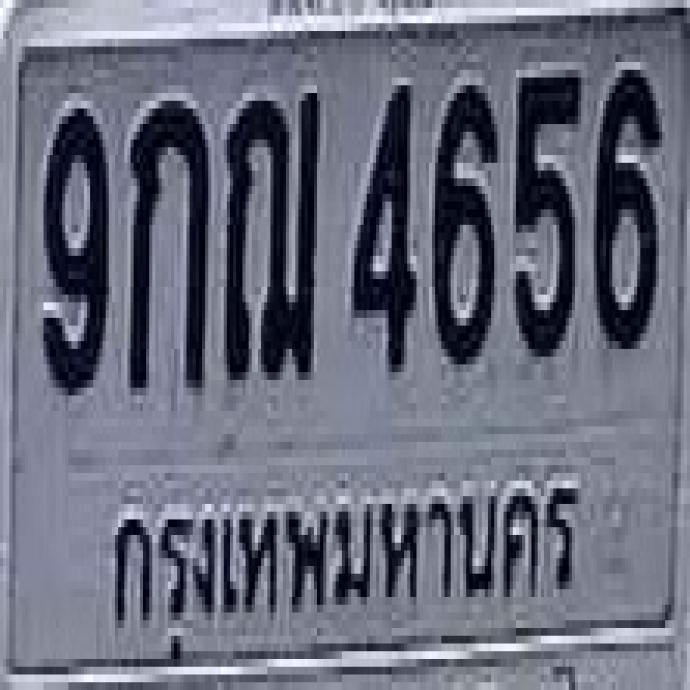4: (350, 78, 412, 366)
5: (512, 66, 578, 351)
6: (593, 64, 657, 342), (431, 78, 493, 359)
9: (41, 103, 105, 388)
A01: (126, 94, 205, 388)
A12: (221, 87, 317, 375)
BKK: (99, 464, 588, 652)
